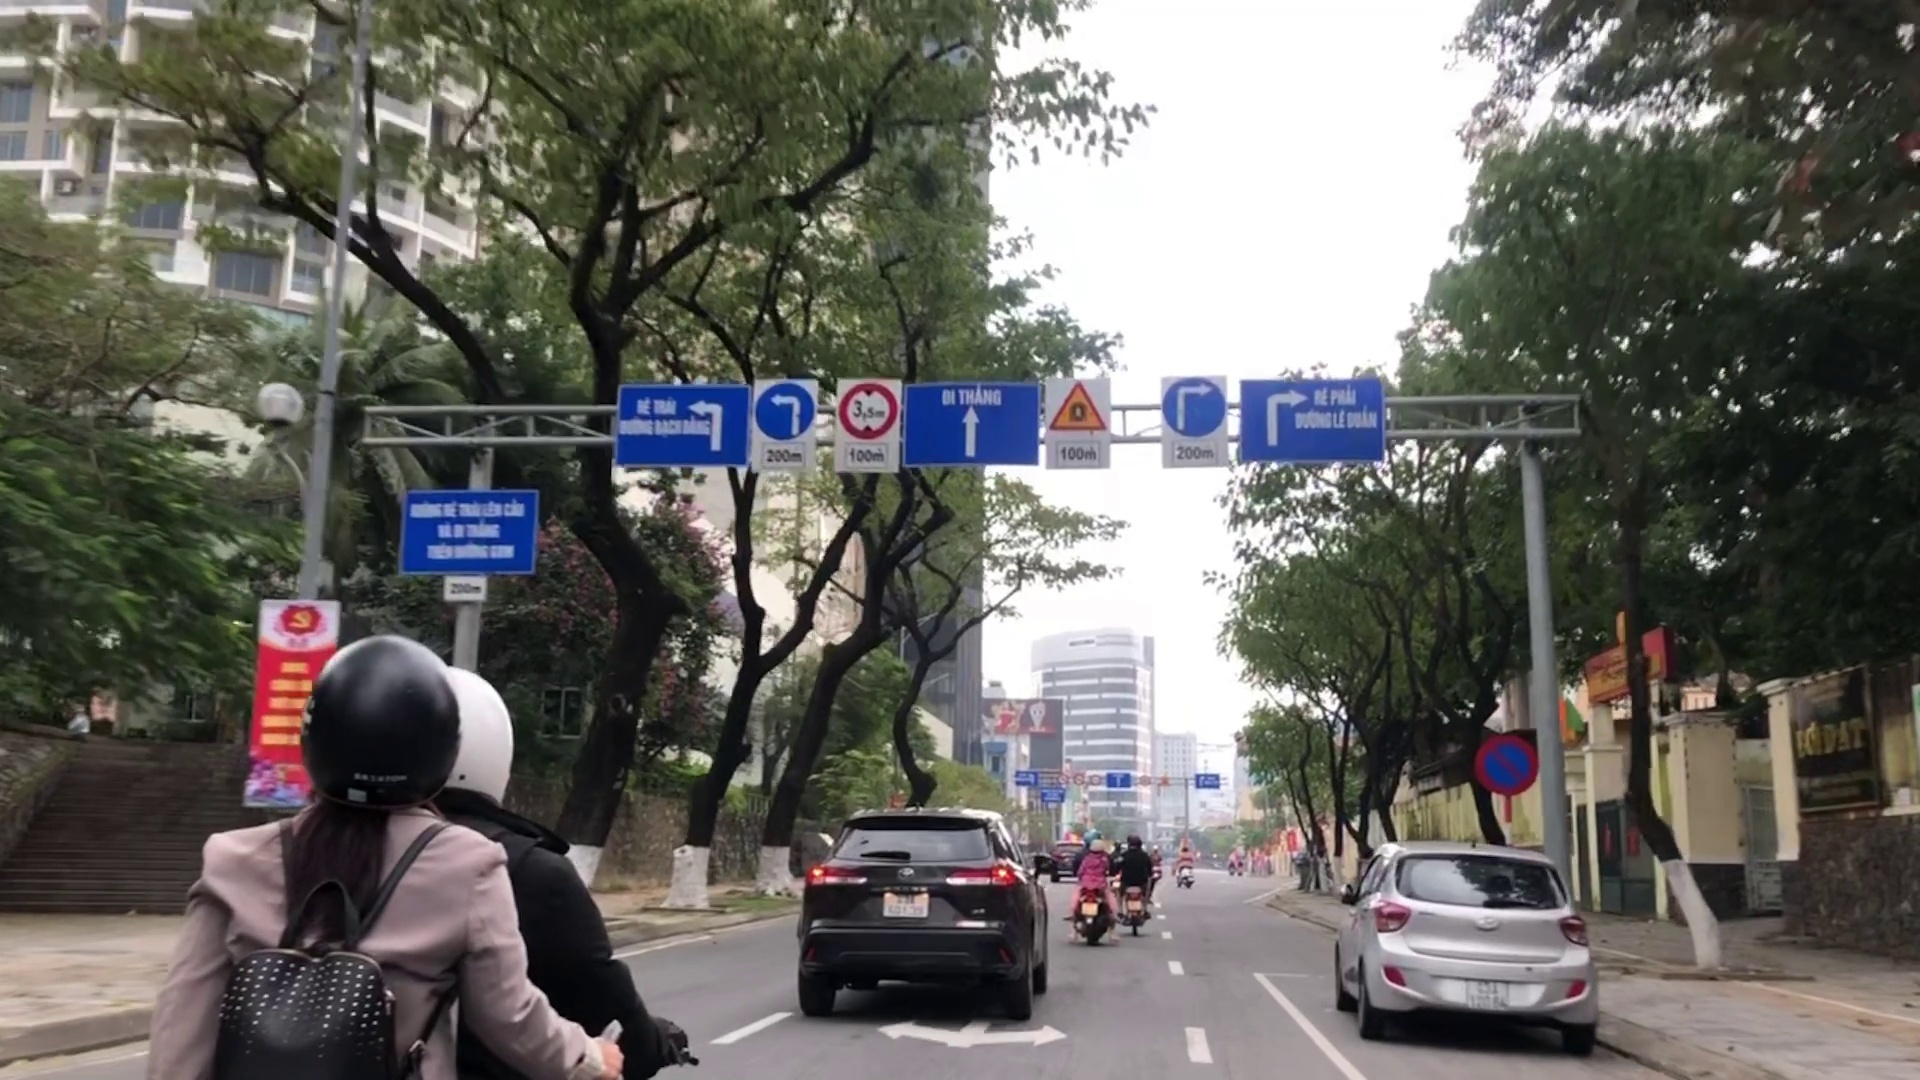Cam do xe: (1476, 728, 1539, 796)
